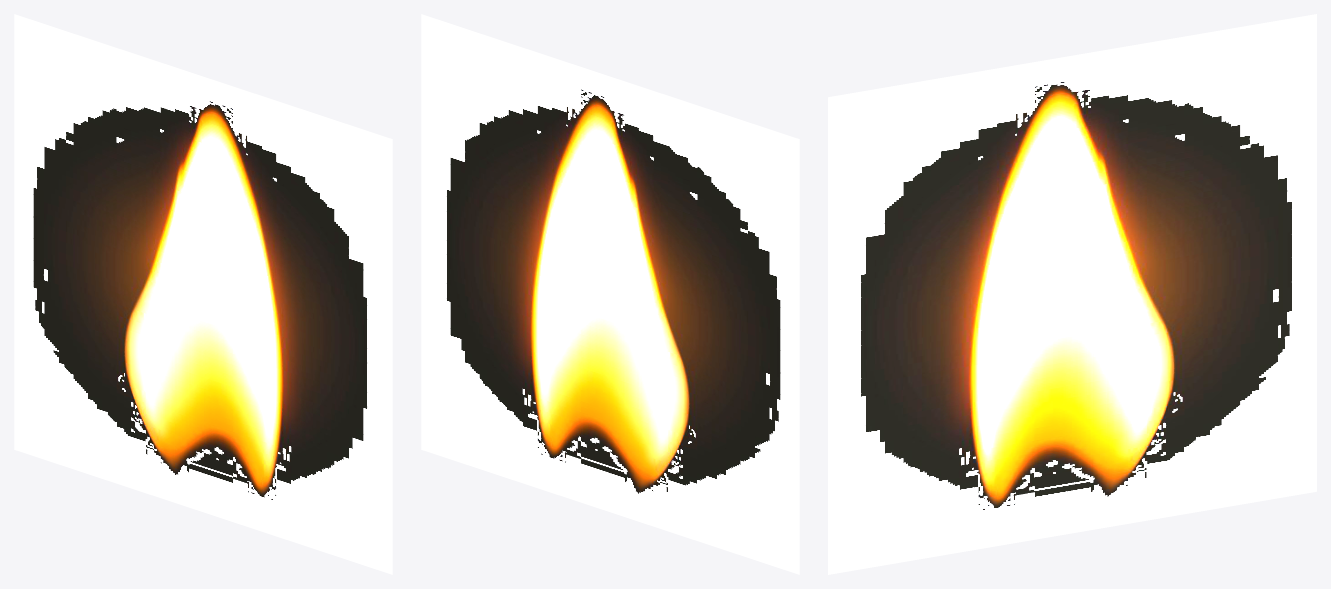
3 views of the same model, side by side, from view 1: azimuth 30°, elevation 25°; view 2: azimuth 210°, elevation 25°; view 3: azimuth 270°, elevation 25° (orthographic). The views are drawn at different scales.
Parts seen in each view (by area): view 1: _257; view 2: _257; view 3: _257.
Part boxes in pixels (x1,y1,x2,y2): _257: (14, 14, 392, 574); _257: (421, 14, 799, 574); _257: (828, 14, 1316, 574).
Bounding box in the file's own units: 4.19 × 11.21 × 10.39.
